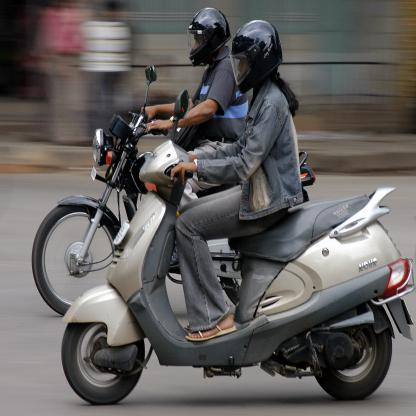motorcycle: (59, 19, 416, 405), (30, 6, 315, 317)
